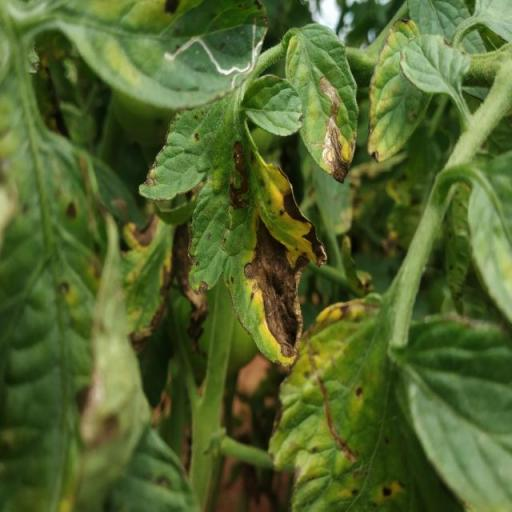Early Blight: (137, 94, 329, 368), (288, 24, 362, 184)
